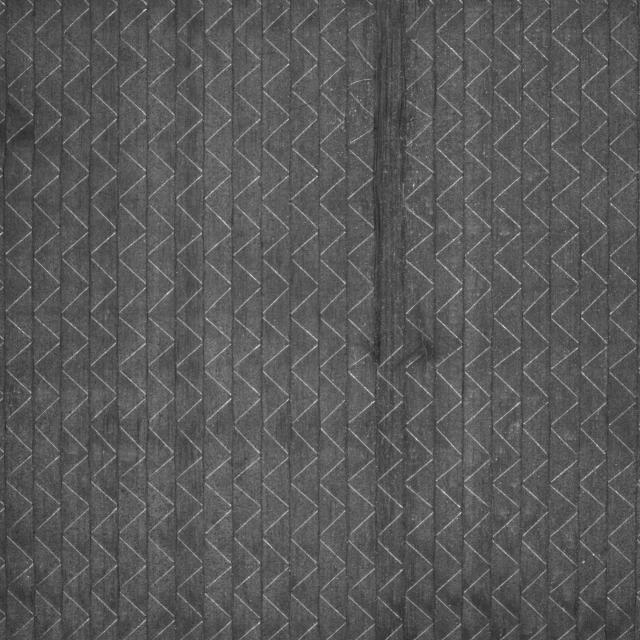carbon-fibre-defect: (372, 28, 407, 383)
